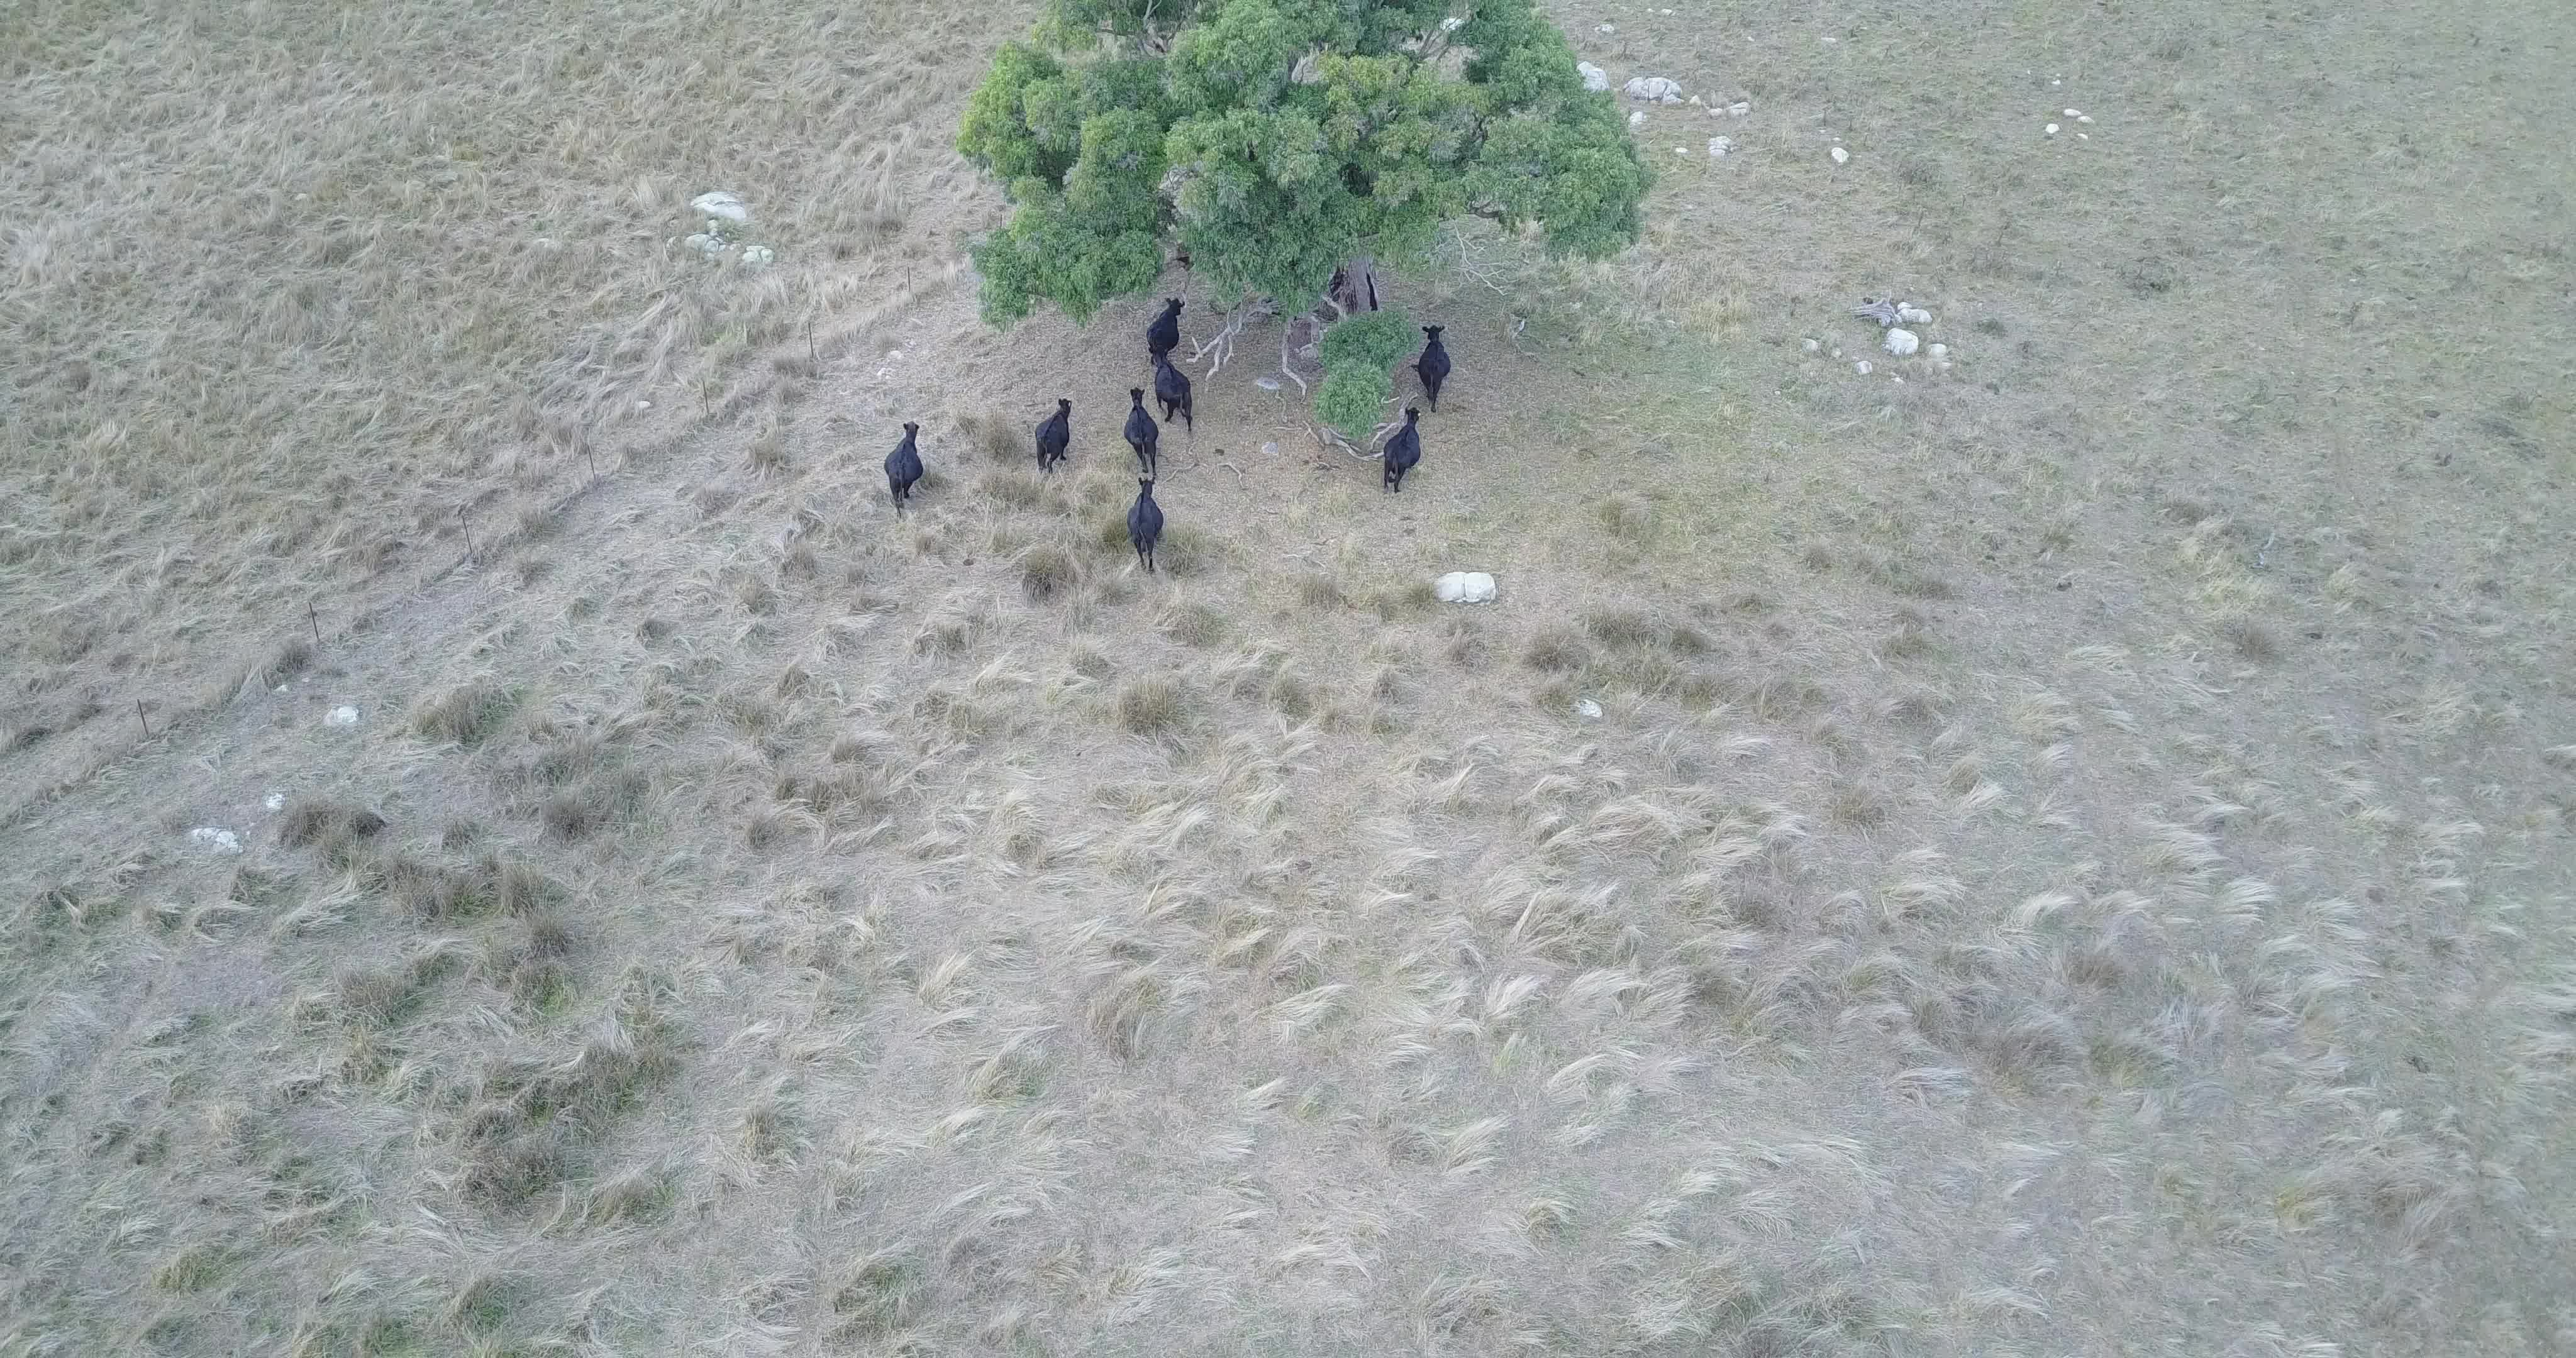cattle: (883, 417, 937, 520), (1119, 475, 1170, 581), (1147, 349, 1206, 431), (1027, 395, 1077, 489), (1118, 387, 1169, 477), (1380, 406, 1423, 496), (1412, 322, 1455, 411), (1143, 296, 1189, 361)
